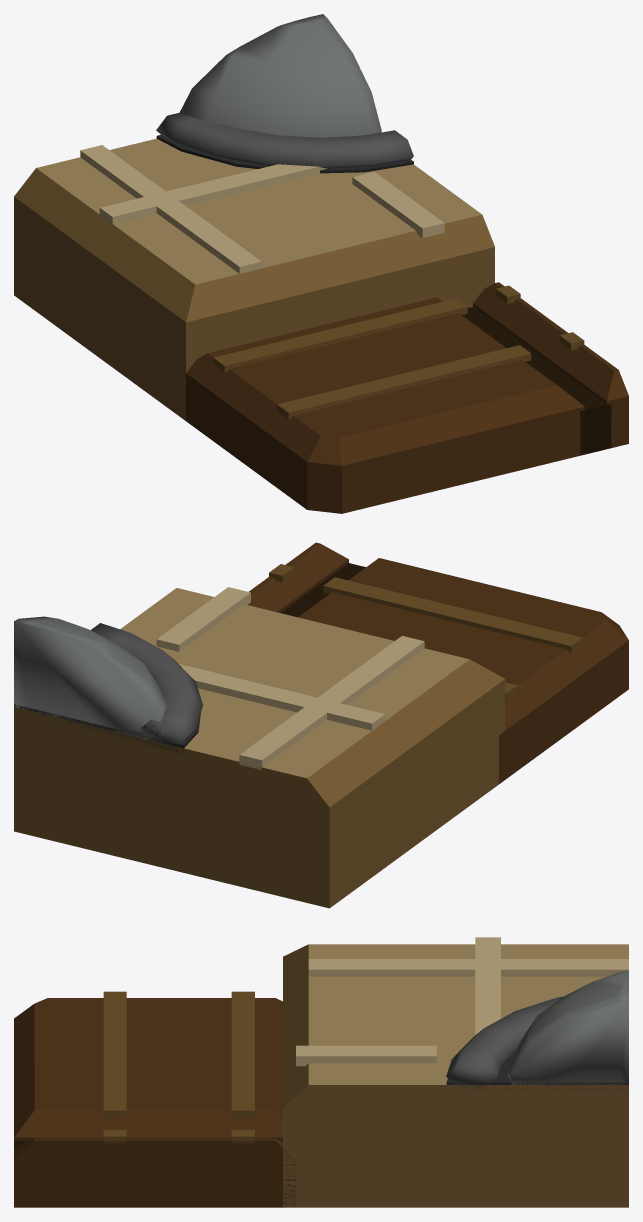
Rendered from newsha-121.glb.
3 renders of one model, top to bottom at view 1: azimuth 30°, elevation 25°; view 2: azimuth 150°, elevation 25°; view 3: azimuth 270°, elevation 25°, orthographic. The views are drawn at different scales.
Visible parts, largest first — view 1: newsha-121; view 2: newsha-121; view 3: newsha-121.
Boxes of the visible parts, x1,y1,x2,y2 form: newsha-121: (14,14,628,513); newsha-121: (14,542,628,908); newsha-121: (14,937,628,1207).
Bounding box in the file's own units: 1.17 × 0.7436 × 2.
